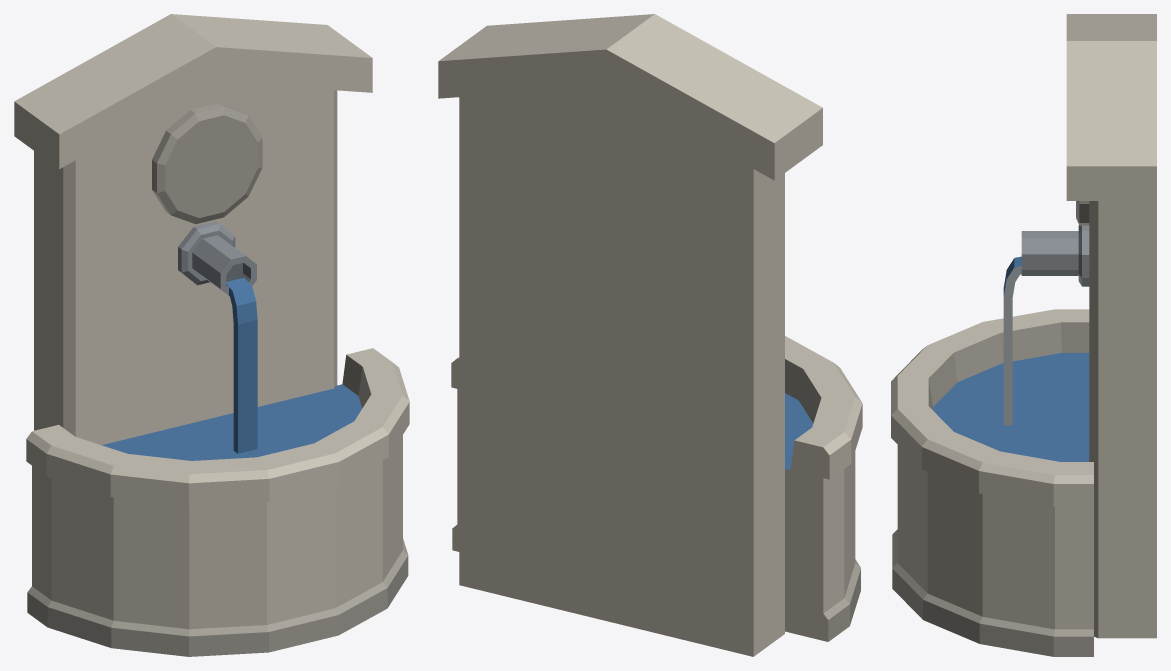
Rendered from FMS_Garden_Fountain_Wall.fbx.
3 views of the same model, side by side, from view 1: azimuth 30°, elevation 25°; view 2: azimuth 150°, elevation 25°; view 3: azimuth 270°, elevation 25° (orthographic). The views are drawn at different scales.
Visible parts, largest first — view 1: FMS_Garden_Fountain_Wall_Body; view 2: FMS_Garden_Fountain_Wall_Body; view 3: FMS_Garden_Fountain_Wall_Body.
Part boxes in pixels (x1=…): FMS_Garden_Fountain_Wall_Body: x1=14, y1=14, x2=409, y2=656; FMS_Garden_Fountain_Wall_Body: x1=438, y1=14, x2=862, y2=656; FMS_Garden_Fountain_Wall_Body: x1=891, y1=14, x2=1156, y2=656.
Bounding box in the file's own units: 0.9004 × 1.3 × 0.5902.
